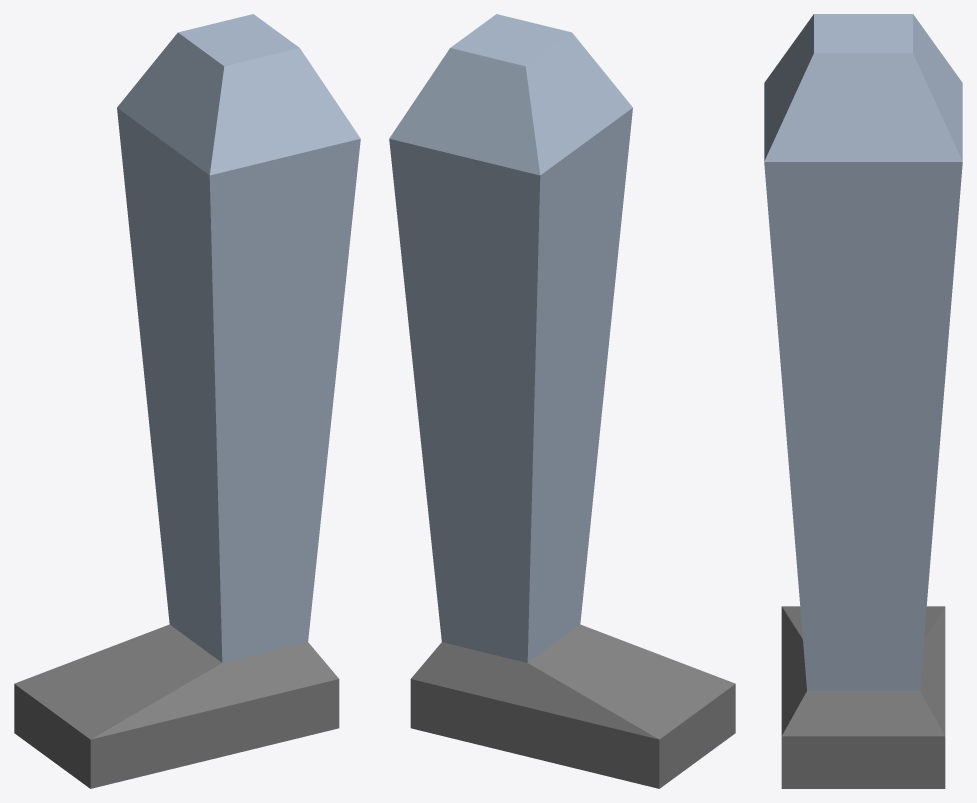
Rendered from Bandit1LowerLeg.fbx.
3 views of the same model, side by side, from view 1: azimuth 30°, elevation 25°; view 2: azimuth 150°, elevation 25°; view 3: azimuth 270°, elevation 25° (orthographic). The views are drawn at different scales.
Visible parts, largest first — view 1: Bandit1LowerLeg; view 2: Bandit1LowerLeg; view 3: Bandit1LowerLeg.
Boxes of the visible parts, left/top/right/bottom form: Bandit1LowerLeg: left=14, top=14, right=360, bottom=788; Bandit1LowerLeg: left=389, top=14, right=735, bottom=788; Bandit1LowerLeg: left=764, top=14, right=962, bottom=788.
Size of the model in its own units: 0.272 by 0.6698 by 0.1668.
